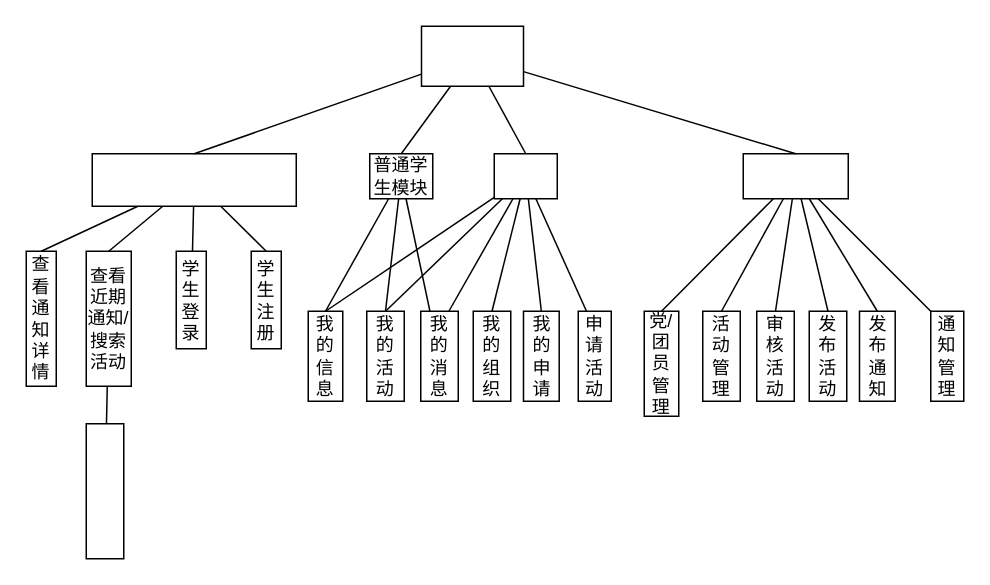
Image size: 990x585. Some labels were removed from this diagram. The shapes that lost their labels are listed below. From the top down, each one's centre as x and y in pixels, then its label:
pixel 472 55: 学生党团活动管理系统
pixel 193 179: 公共模块：网站主页（查看近期通知/搜索活动）
pixel 525 175: 团支书模块
pixel 795 175: 管理员模块
pixel 104 490: 查看活动详情
